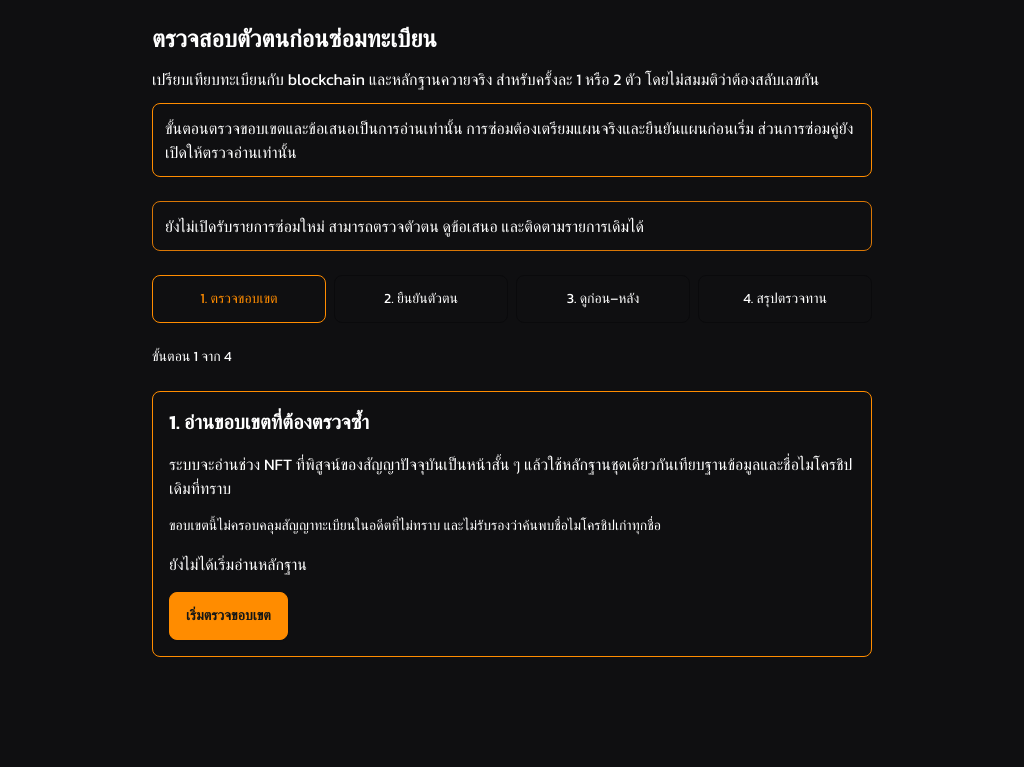
Test case: failed fresh start retries startScan rather than silently reusing old complete scan
Click the button "เริ่มตรวจขอบเขต".
click(228, 616)  # box [169,592,288,640]
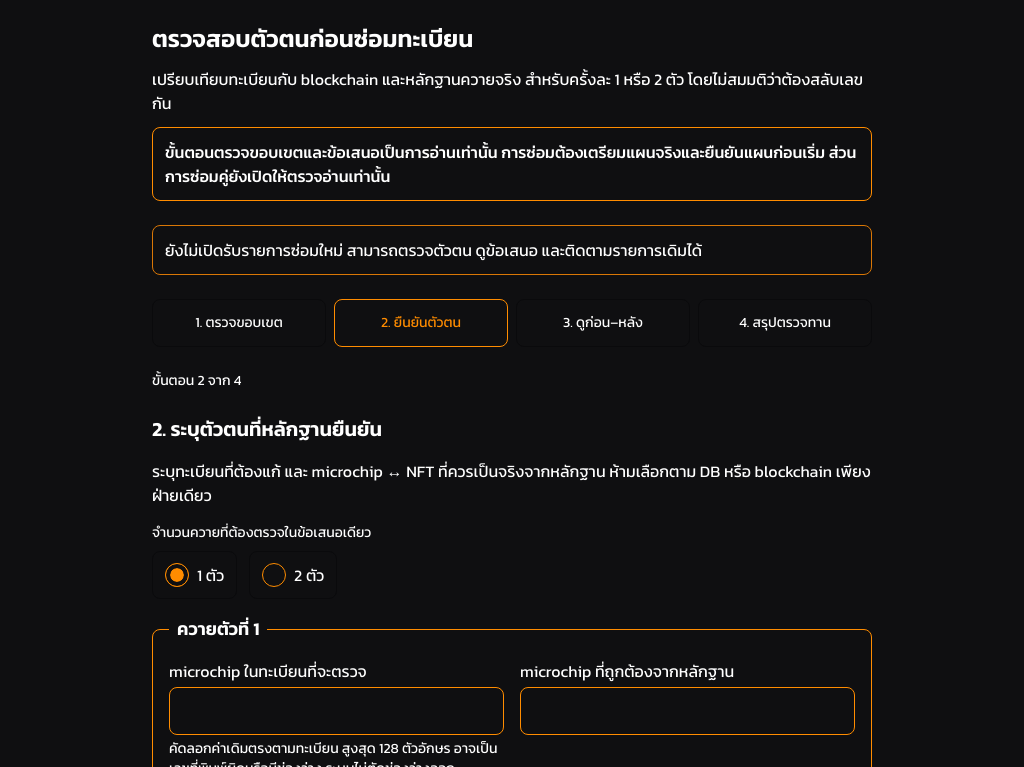
Result: the heading "2. ระบุตัวตนที่หลักฐานยืนยัน" is shown at [152,414,382,444]
Click the button "1. ตรวจขอบเขต".
click(239, 323)  # box [152,299,326,347]
(page scrolled)
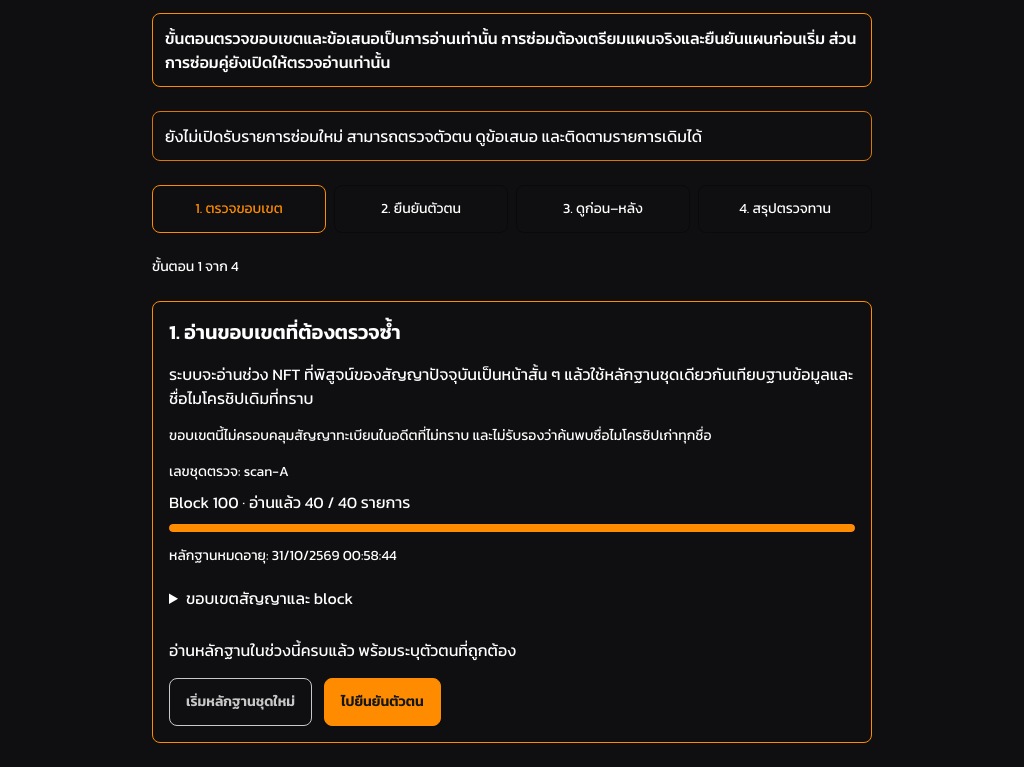
Click the button "เริ่มหลักฐานชุดใหม่".
click(240, 702)  # box [169,678,312,726]
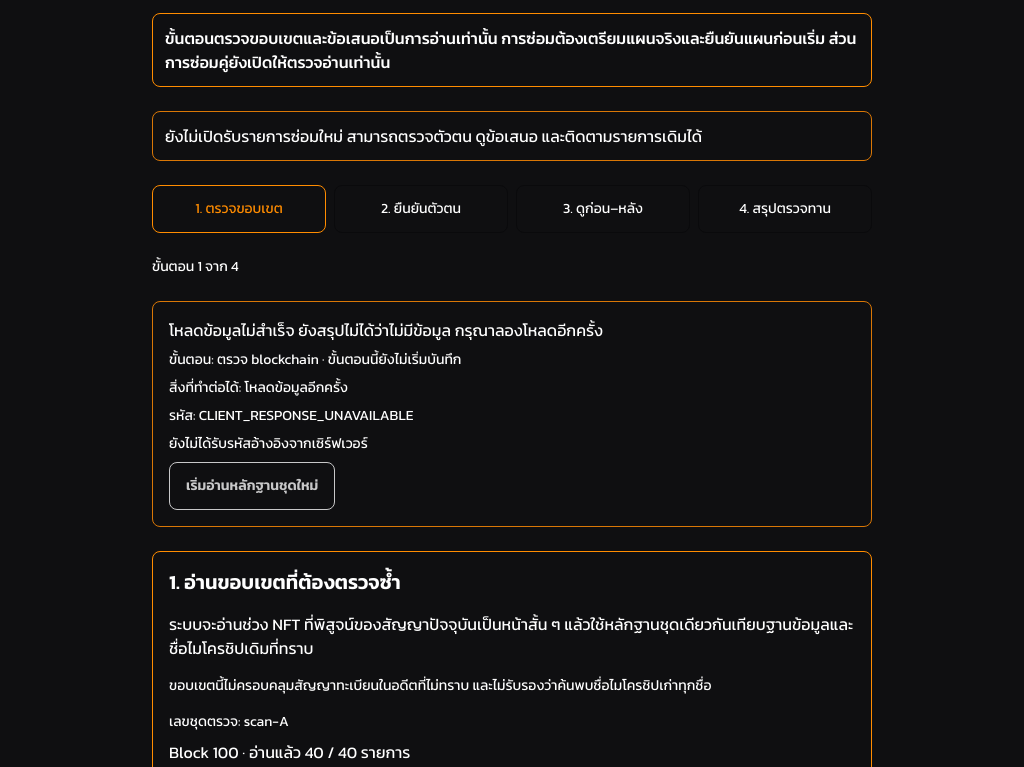
Result: the button "เริ่มอ่านหลักฐานชุดใหม่" is shown
Click the button "เริ่มอ่านหลักฐานชุดใหม่".
click(252, 486)  # box [169,462,335,510]
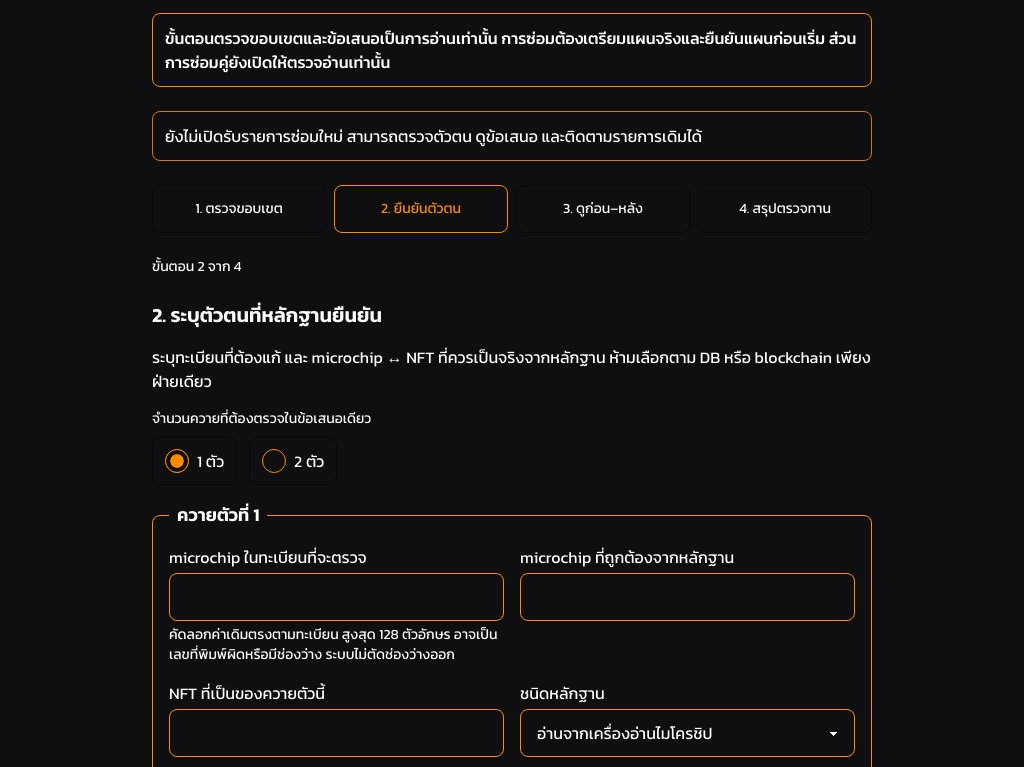
Result: the heading "2. ระบุตัวตนที่หลักฐานยืนยัน" is shown at [152,300,382,330]
